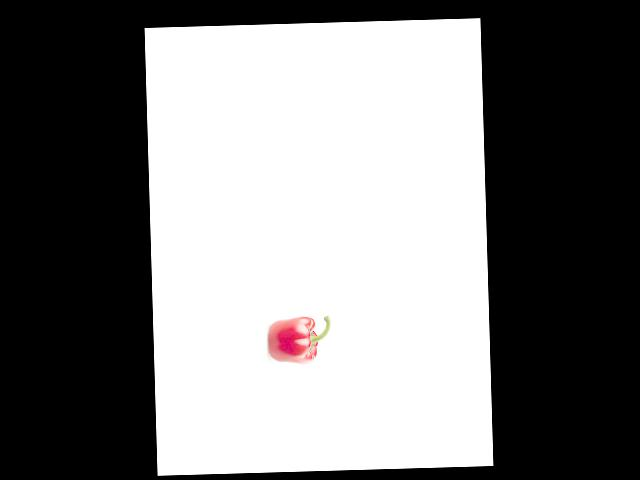bell_pepper: (266, 314, 332, 363)
